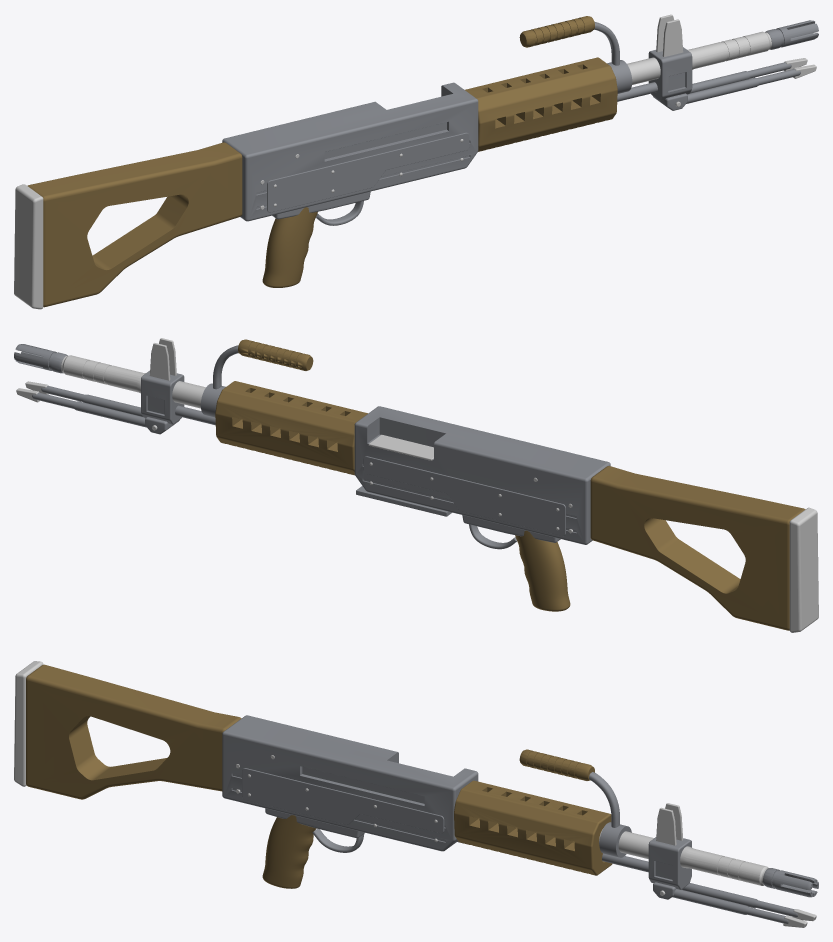
The model's file is corpo.obj.
3 views of the same model, one above another, from view 1: azimuth 30°, elevation 25°; view 2: azimuth 150°, elevation 25°; view 3: azimuth 330°, elevation 25° (orthographic).
Size of the model in its own units: 4.18 by 0.9741 by 0.244.
